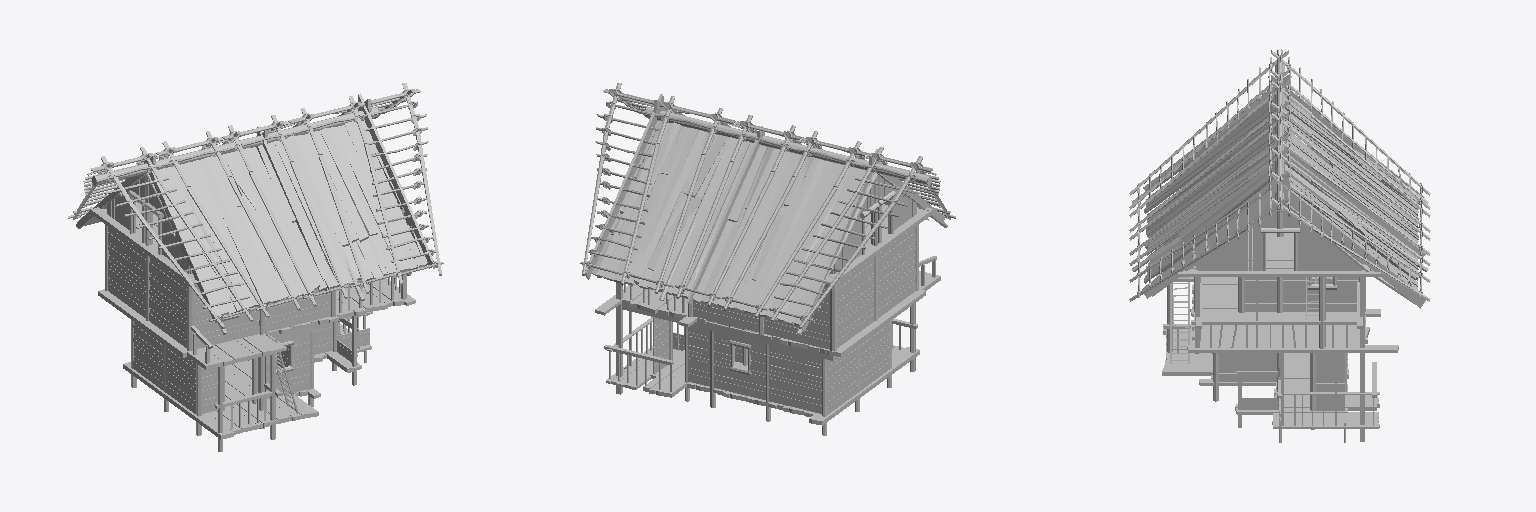
File: caba1.obj
3 renders of one model, left to right at view 1: azimuth 30°, elevation 25°; view 2: azimuth 150°, elevation 25°; view 3: azimuth 270°, elevation 25°, orthographic.
Parts seen in each view (by area): view 1: construction.000_Cube.010; view 2: construction.000_Cube.010; view 3: construction.000_Cube.010.
Boxes of the visible parts, box(x1,y1,x2,y2) form: construction.000_Cube.010: box(68, 83, 443, 451); construction.000_Cube.010: box(580, 83, 955, 435); construction.000_Cube.010: box(1129, 49, 1430, 442).
Size of the model in its own units: 36.88 by 28.58 by 29.28.